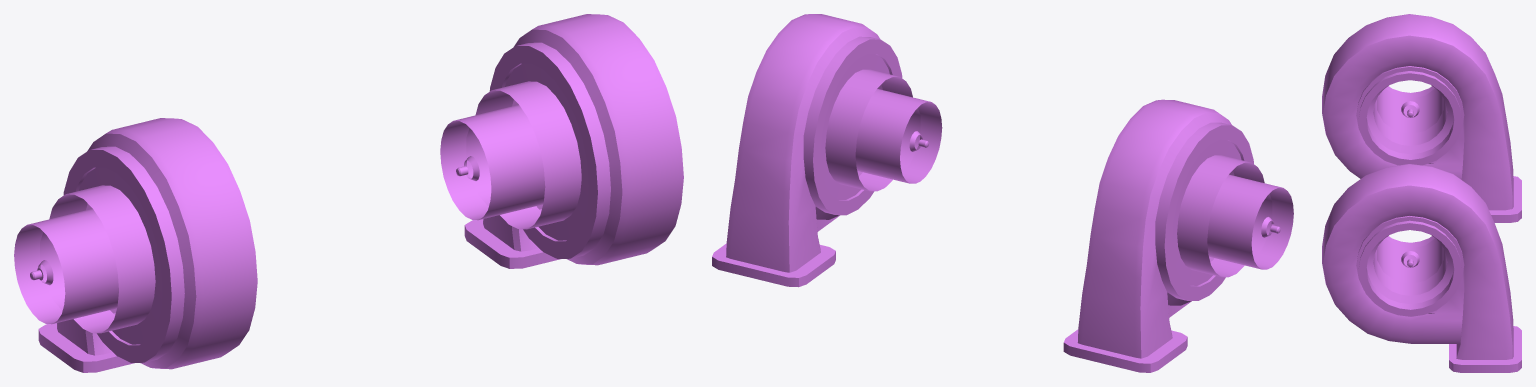
3 views of the same model, side by side, from view 1: azimuth 30°, elevation 25°; view 2: azimuth 150°, elevation 25°; view 3: azimuth 270°, elevation 25° (orthographic). The views are drawn at different scales.
Visible parts, largest first — view 1: rb26_stock_2_reference.001_rb26_stock_2_reference.001_rb26_.003; view 2: rb26_stock_2_reference.001_rb26_stock_2_reference.001_rb26_.003; view 3: rb26_stock_2_reference.001_rb26_stock_2_reference.001_rb26_.003.
Part boxes in pixels (x1,y1,x2,y2): rb26_stock_2_reference.001_rb26_stock_2_reference.001_rb26_.003: [14, 14, 683, 372]; rb26_stock_2_reference.001_rb26_stock_2_reference.001_rb26_.003: [712, 14, 1293, 372]; rb26_stock_2_reference.001_rb26_stock_2_reference.001_rb26_.003: [1322, 14, 1521, 372].
Bounding box in the file's own units: 24.94 × 9.66 × 9.7.
